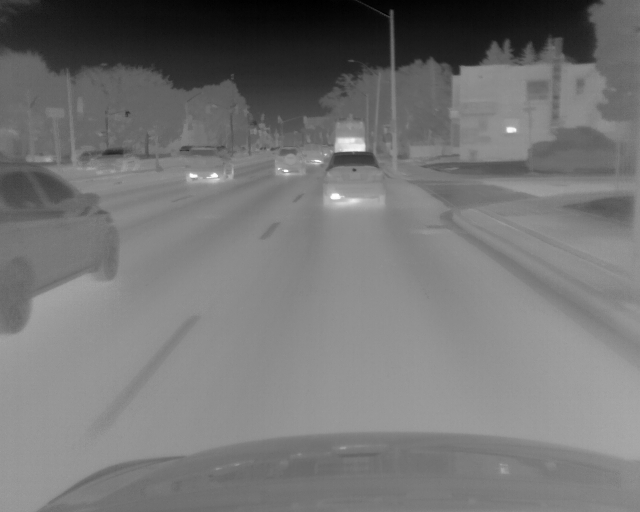car: (1, 163, 120, 336), (320, 151, 388, 208), (184, 143, 234, 186), (94, 148, 141, 175), (333, 117, 367, 153), (274, 146, 306, 179), (304, 143, 323, 167)
